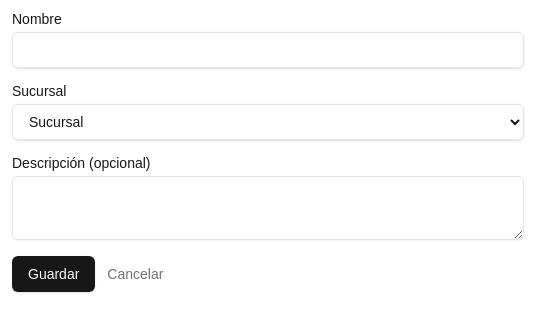
Test: BarberForm — field errors and focus › should_render_the_displayName_error_on_the_name_input_and_move_focus_to_it
Type "x" into the field labelled "Nombre" at (268, 50), box [12,32,524,68]
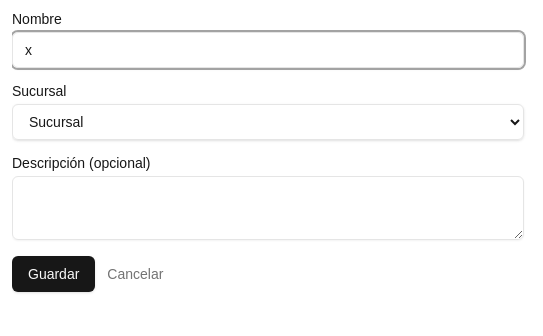
Select "Sucursal Centro" in the dropdown labelled "Sucursal" at (268, 122), box [12,104,524,140]
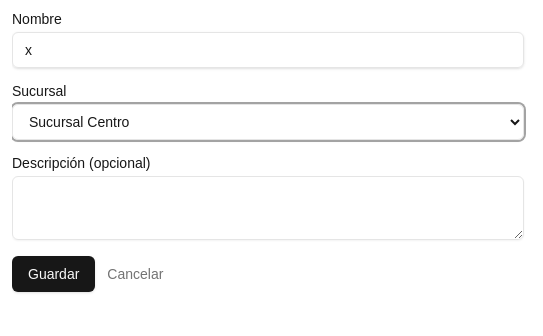
Click the button "Guardar" at (54, 274), box [12,256,95,292]
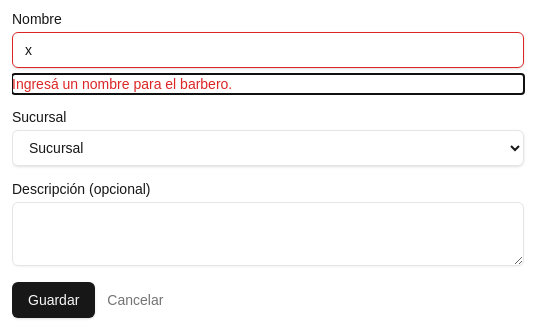
Expected: the message reads "Ingresá un nombre para el barbero.", [12,76,232,92]
